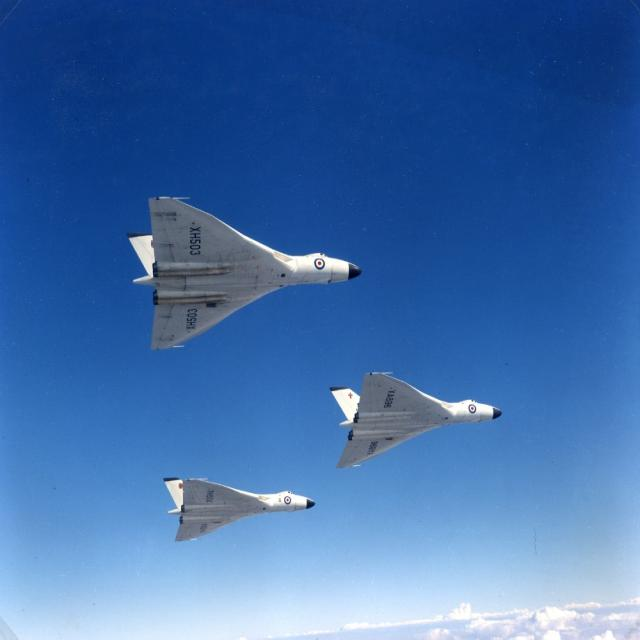B1: (106, 152, 382, 358), (326, 346, 531, 494), (156, 454, 330, 575)
